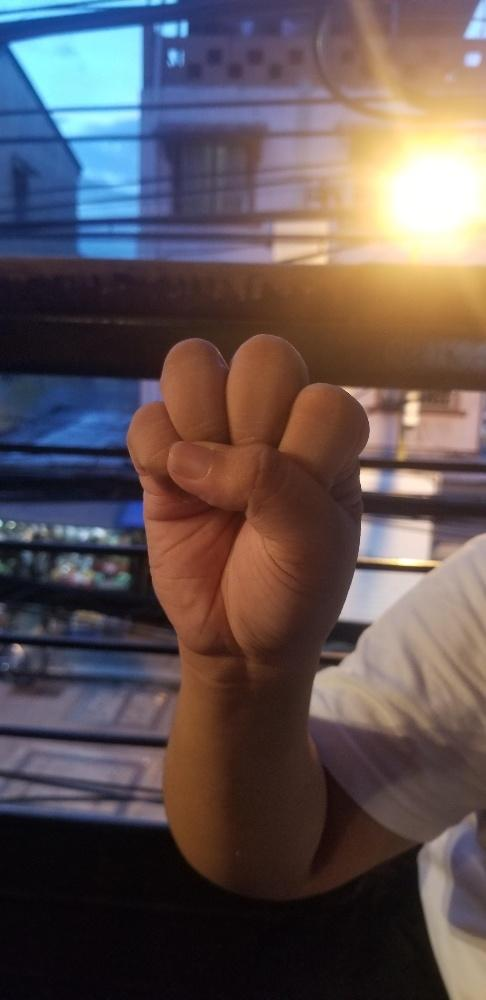s: (124, 331, 372, 657)
